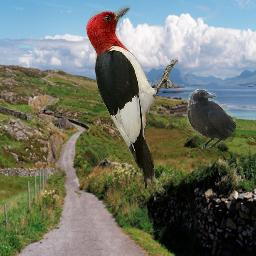Crow: (187, 89, 236, 148)
Woodpecker: (84, 4, 178, 189)
